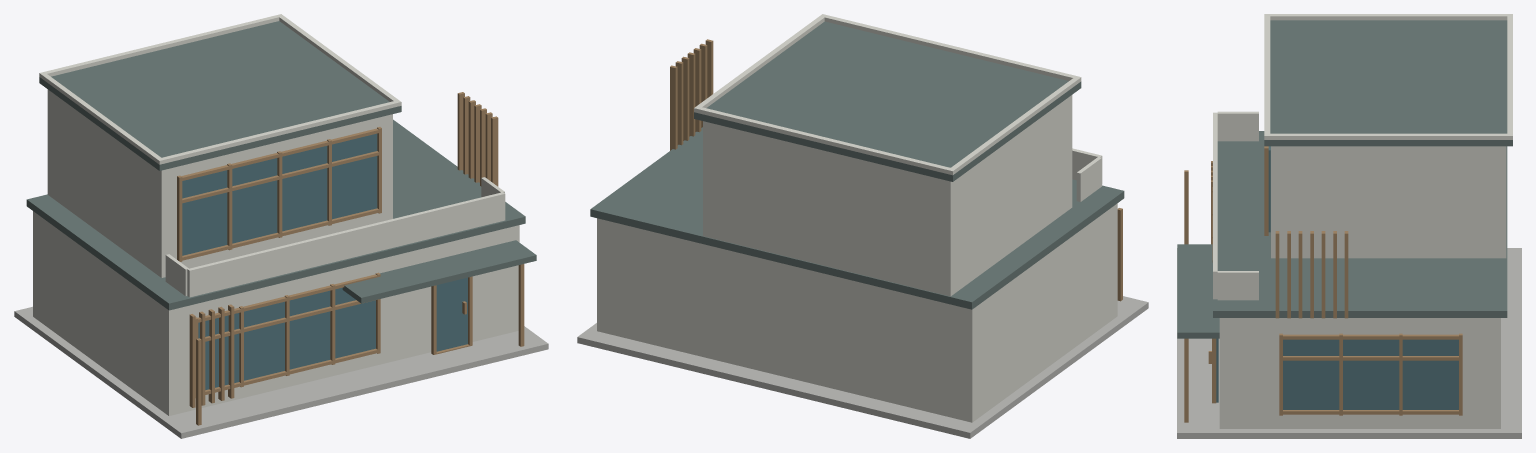
File: house_medium_03.glb
3 views of the same model, side by side, from view 1: azimuth 30°, elevation 25°; view 2: azimuth 150°, elevation 25°; view 3: azimuth 270°, elevation 25° (orthographic). The views are drawn at different scales.
Visible parts, largest first — view 1: House_medium_03; view 2: House_medium_03; view 3: House_medium_03.
Part boxes in pixels (x1=…): House_medium_03: x1=14, y1=14, x2=548, y2=438; House_medium_03: x1=577, y1=14, x2=1148, y2=438; House_medium_03: x1=1177, y1=14, x2=1521, y2=438.
Bounding box in the file's own units: 12.2 × 7.68 × 9.6.
